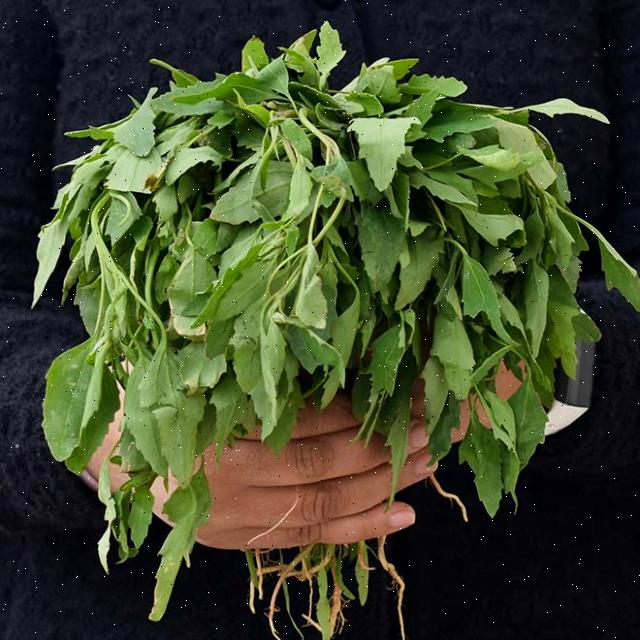NA: (42, 38, 612, 533)
